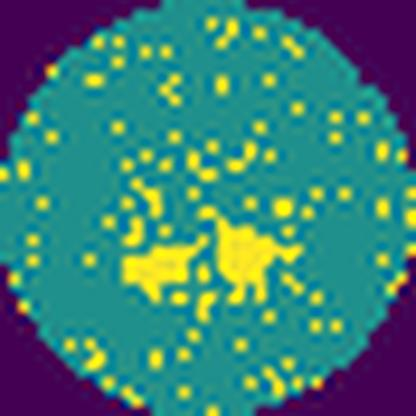Loc: (197, 202, 302, 303), (120, 233, 209, 300)
